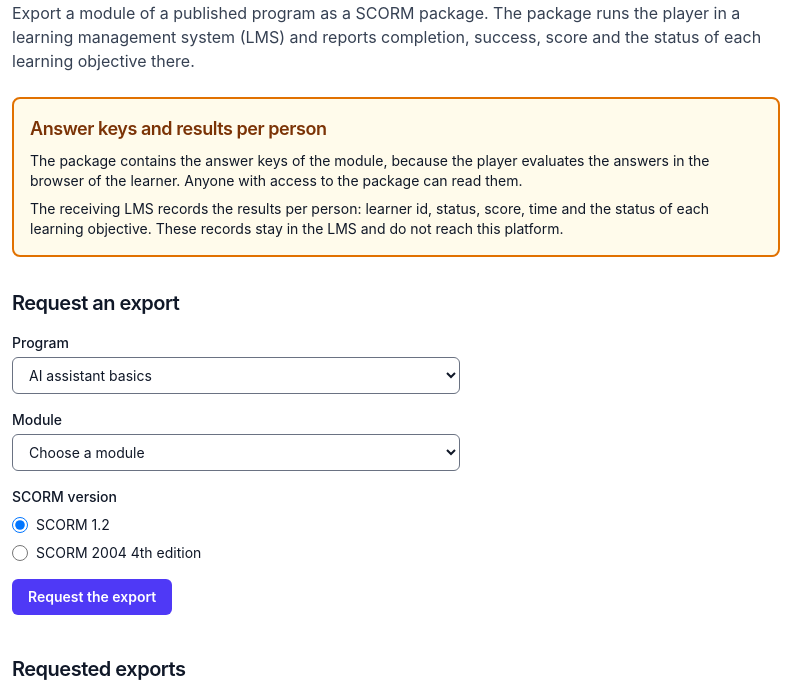
Scenario: the form › requests the export with exactly module_id and scorm_version and lists it
Step 1. Select "1. What AI assistants do" in the dropdown labelled "Module" → (236, 452), box [12,434,460,471]
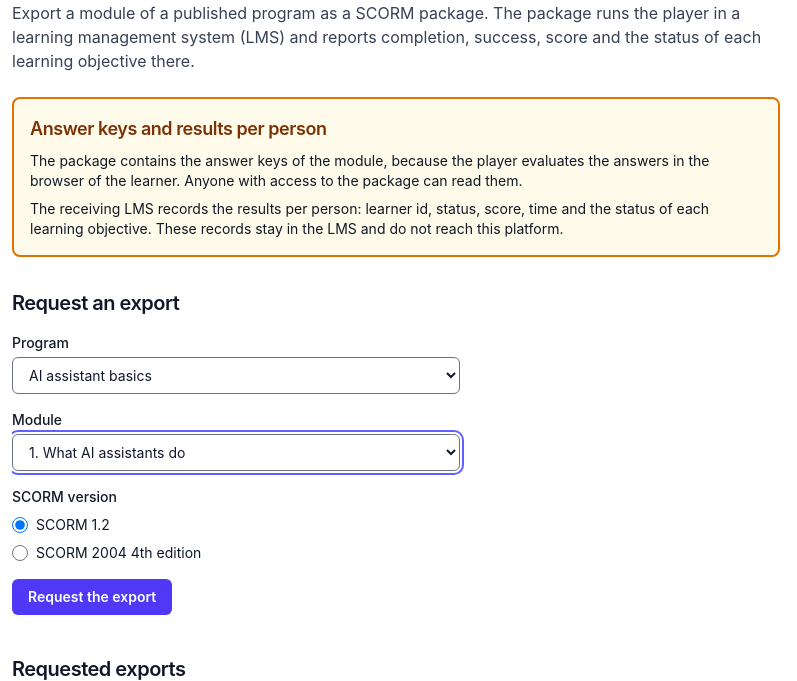
Step 2. Click the radio button labelled "SCORM 2004 4th edition" → (20, 553), box [12,545,28,561]
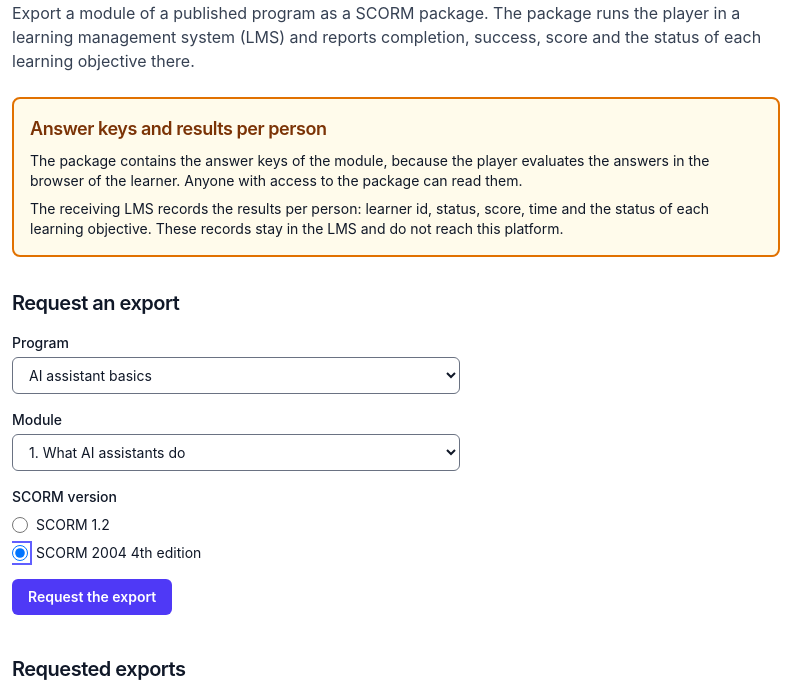
Step 3. Click the button "Request the export" → (92, 597), box [12,579,172,615]
(page scrolled)
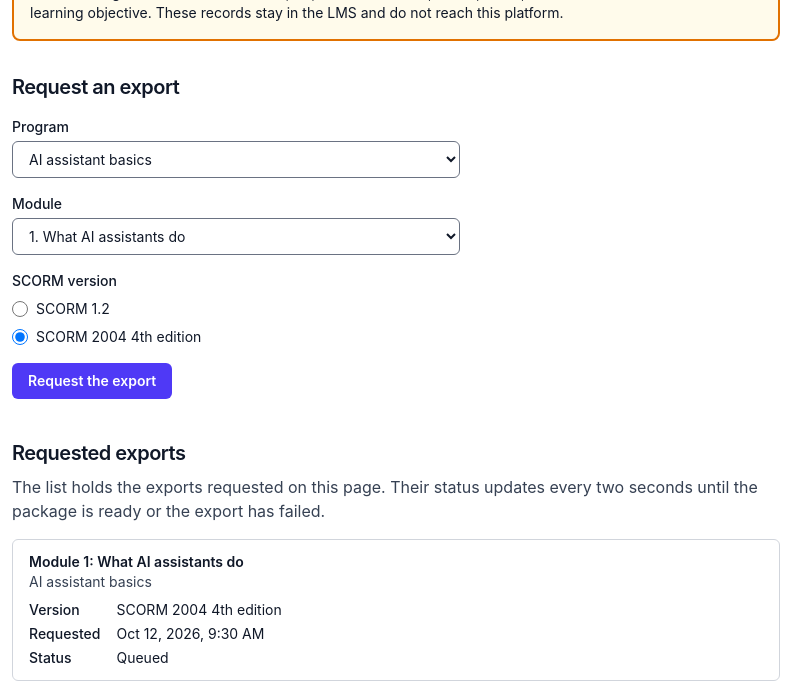
Expected: the heading "Module 1: What AI assistants do" is shown, [29,553,244,570]
